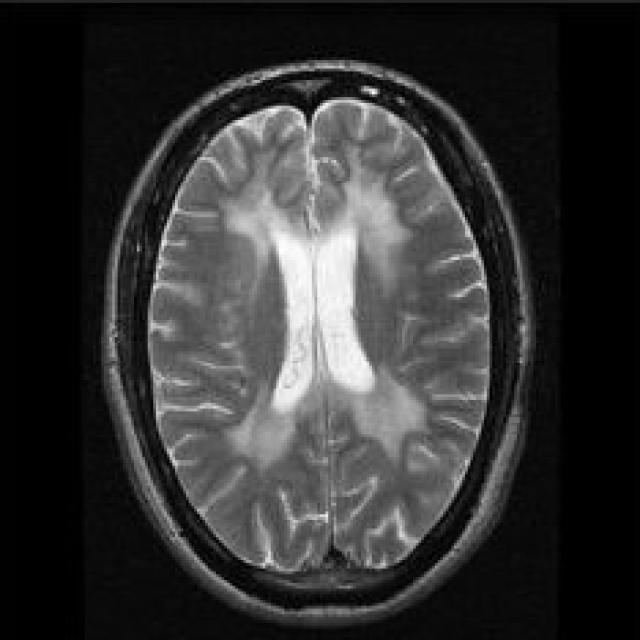No_Tumor: (105, 61, 533, 619)
